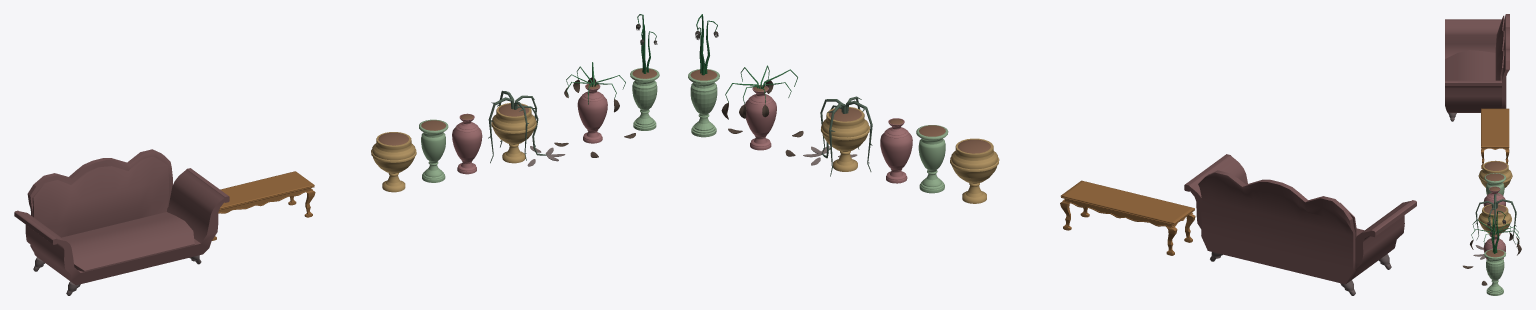
Rendered from LivingRoomAssets_UVFixed.fbx.
3 views of the same model, side by side, from view 1: azimuth 30°, elevation 25°; view 2: azimuth 150°, elevation 25°; view 3: azimuth 270°, elevation 25° (orthographic). The views are drawn at different scales.
Visible parts, largest first — view 1: Couch_DONE, PlantPot1_DeadPlant_DONE, Low_CoffeeTable_DONE, PlantPot2_DeadPlant_DONE, PlantPot1_DONE, PlantPot3_DeadPlant_DONE, PlantPot2_DONE, PlantPot3_DONE; view 2: Couch_DONE, Low_CoffeeTable_DONE, PlantPot1_DeadPlant_DONE, PlantPot2_DeadPlant_DONE, PlantPot1_DONE, PlantPot3_DeadPlant_DONE, PlantPot2_DONE, PlantPot3_DONE; view 3: Couch_DONE, Low_CoffeeTable_DONE, PlantPot1_DeadPlant_DONE, PlantPot3_DeadPlant_DONE, PlantPot2_DeadPlant_DONE, PlantPot1_DONE, PlantPot2_DONE, PlantPot3_DONE.
Boxes of the visible parts, x1,y1,x2,y2 form: Couch_DONE: [14, 149, 229, 295]; PlantPot1_DeadPlant_DONE: [488, 90, 565, 166]; Low_CoffeeTable_DONE: [212, 171, 315, 240]; PlantPot2_DeadPlant_DONE: [554, 62, 635, 157]; PlantPot1_DONE: [371, 132, 416, 192]; PlantPot3_DeadPlant_DONE: [630, 14, 659, 130]; PlantPot2_DONE: [419, 119, 448, 182]; PlantPot3_DONE: [452, 113, 482, 174]; Couch_DONE: [1184, 154, 1416, 295]; Low_CoffeeTable_DONE: [1060, 180, 1195, 255]; PlantPot1_DeadPlant_DONE: [803, 96, 872, 176]; PlantPot2_DeadPlant_DONE: [721, 65, 803, 156]; PlantPot1_DONE: [950, 138, 999, 203]; PlantPot3_DeadPlant_DONE: [688, 14, 719, 137]; PlantPot2_DONE: [916, 125, 948, 193]; PlantPot3_DONE: [880, 118, 912, 183]; Couch_DONE: [1445, 14, 1509, 121]; Low_CoffeeTable_DONE: [1481, 108, 1509, 168]; PlantPot1_DeadPlant_DONE: [1473, 194, 1516, 259]; PlantPot3_DeadPlant_DONE: [1484, 210, 1505, 295]; PlantPot2_DeadPlant_DONE: [1463, 219, 1521, 285]; PlantPot1_DONE: [1478, 160, 1512, 187]; PlantPot2_DONE: [1484, 173, 1506, 195]; PlantPot3_DONE: [1483, 186, 1505, 206].
Size of the model in its own units: 58.78 by 9.75 by 8.27.
